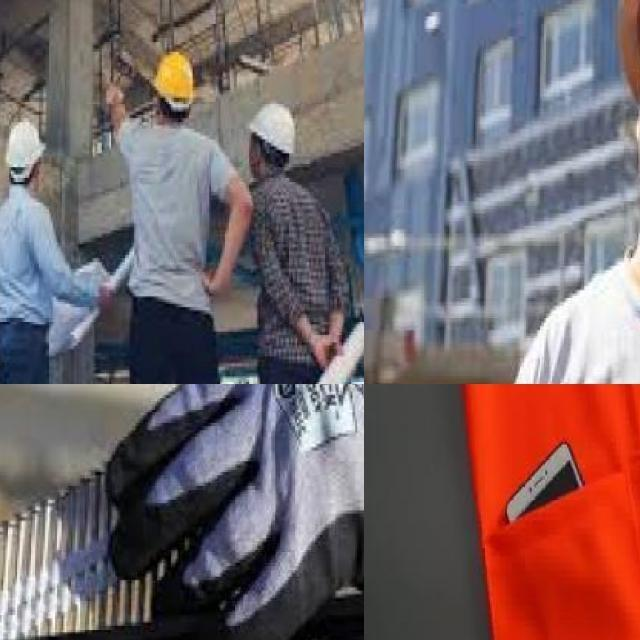apron: (98, 384, 364, 640)
